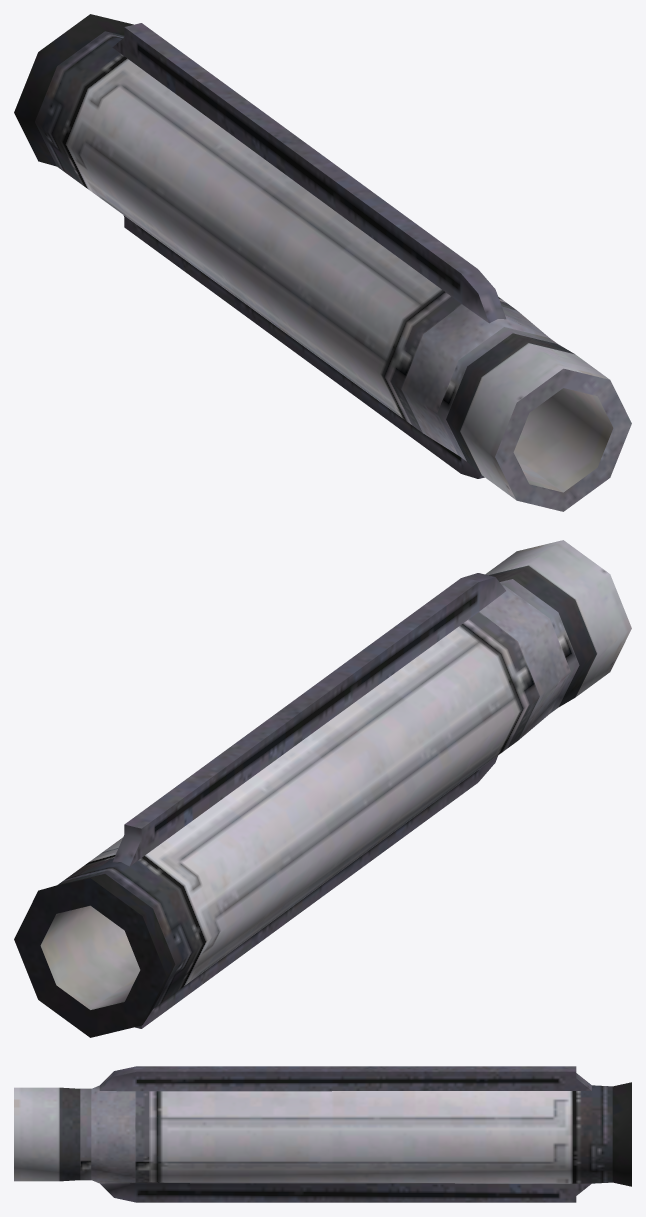
The model's file is eqp_comp_missile_launcher_l1.fbx.
3 renders of one model, top to bottom at view 1: azimuth 30°, elevation 25°; view 2: azimuth 150°, elevation 25°; view 3: azimuth 270°, elevation 25°, orthographic. The views are drawn at different scales.
Visible parts, largest first — view 1: mesh_node; view 2: mesh_node; view 3: mesh_node.
Boxes of the visible parts, x1=… form: mesh_node: x1=14, y1=14, x2=631, y2=511; mesh_node: x1=14, y1=540, x2=631, y2=1037; mesh_node: x1=14, y1=1066, x2=631, y2=1202.
Bounding box in the file's own units: 0.3731 × 0.4674 × 2.
Materials: 1 (1 with a texture image).
